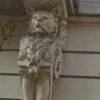Statue: (15, 8, 70, 100)
